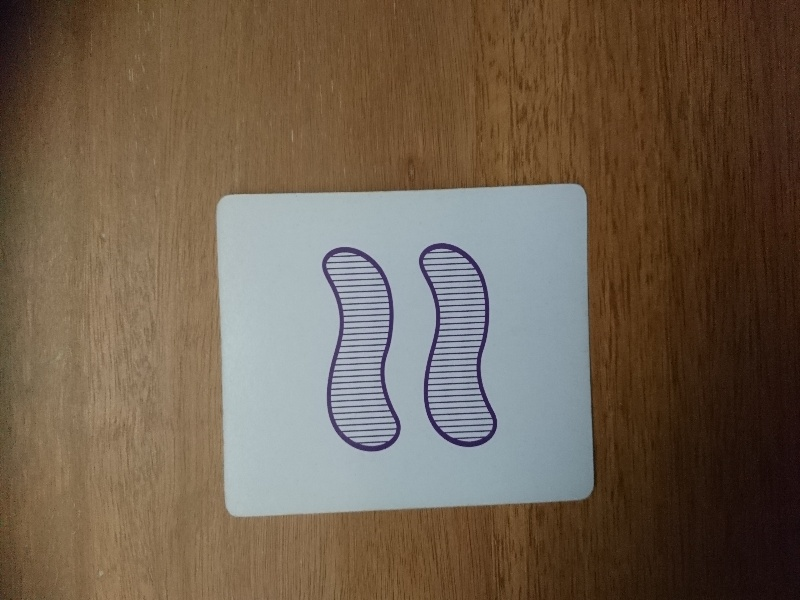2psh: (193, 173, 617, 527)
